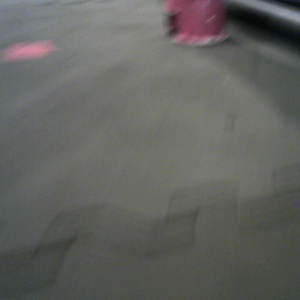Right: (162, 1, 232, 47)
